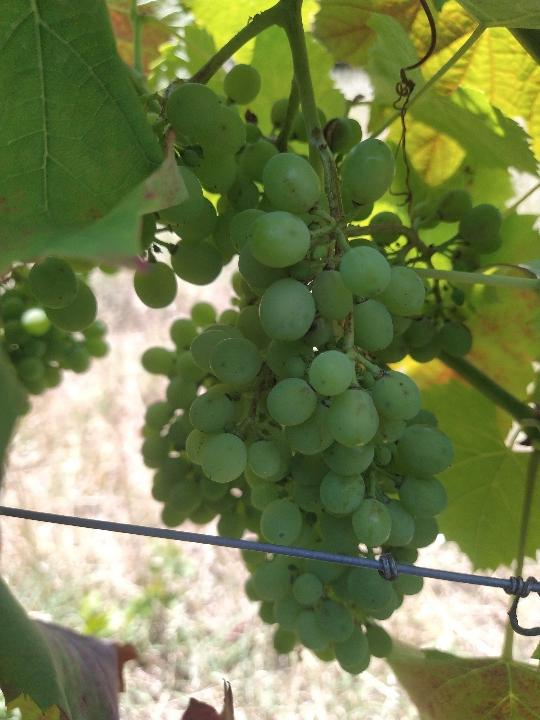grape: (123, 60, 511, 680)
